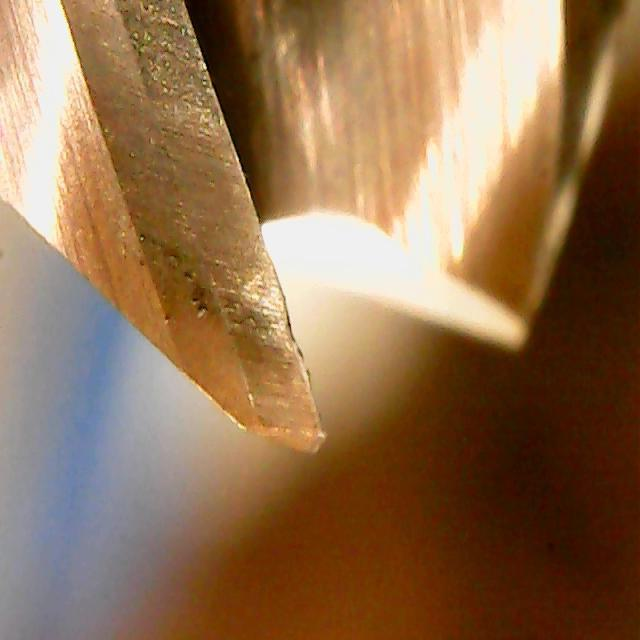Tool-wear-class-1: (161, 242, 344, 459)
